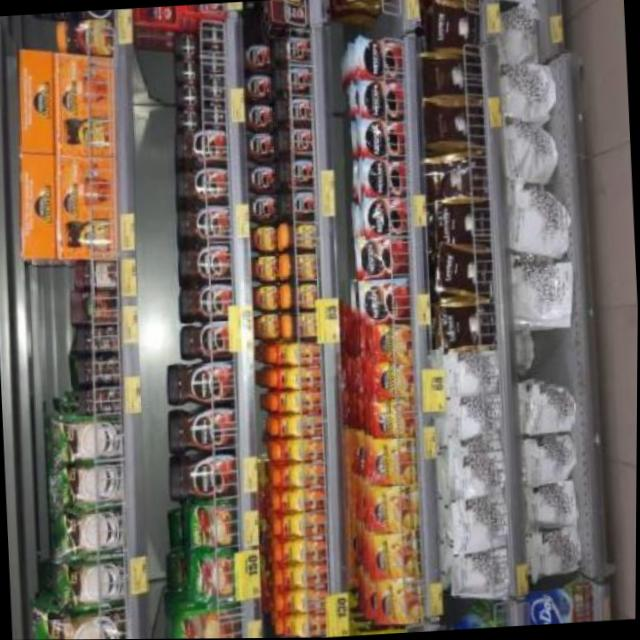Coffee: (166, 405, 237, 455), (169, 452, 239, 502), (165, 358, 235, 407), (176, 243, 233, 286), (374, 579, 425, 627), (361, 279, 411, 325), (175, 204, 231, 245), (179, 321, 234, 362), (369, 488, 420, 532), (372, 532, 418, 580), (177, 284, 233, 323), (176, 167, 231, 206), (174, 129, 228, 168), (357, 238, 408, 278), (370, 441, 414, 485), (57, 21, 111, 54), (372, 401, 416, 441), (363, 198, 407, 238), (360, 80, 404, 120), (363, 120, 406, 160), (359, 40, 402, 80), (364, 161, 408, 199), (373, 361, 415, 400), (372, 324, 412, 362), (271, 439, 324, 466), (270, 389, 323, 416), (275, 539, 326, 566), (272, 464, 326, 489), (270, 415, 324, 440), (276, 589, 329, 614), (273, 488, 326, 513), (275, 564, 326, 589), (273, 615, 326, 638), (268, 344, 321, 367), (272, 516, 325, 538), (280, 220, 316, 252), (282, 253, 318, 283), (279, 159, 315, 189), (283, 282, 318, 312), (276, 98, 312, 126), (269, 370, 322, 389), (274, 67, 311, 94), (281, 191, 314, 221), (278, 127, 311, 156), (274, 36, 309, 63), (283, 314, 318, 340), (244, 104, 272, 131), (243, 45, 271, 72), (246, 132, 272, 161), (243, 75, 271, 101), (248, 166, 274, 192), (255, 314, 280, 341), (173, 30, 197, 58), (200, 74, 225, 100), (252, 286, 278, 311), (202, 100, 225, 128), (252, 257, 277, 282), (250, 196, 275, 221), (174, 58, 197, 85), (251, 227, 276, 251), (175, 84, 198, 109), (202, 48, 225, 73), (200, 23, 223, 48), (177, 108, 201, 131)
